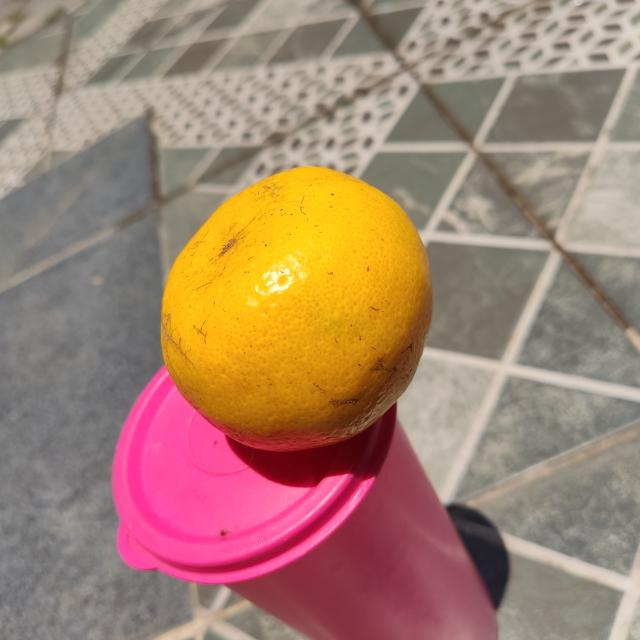orange: (160, 165, 436, 452)
